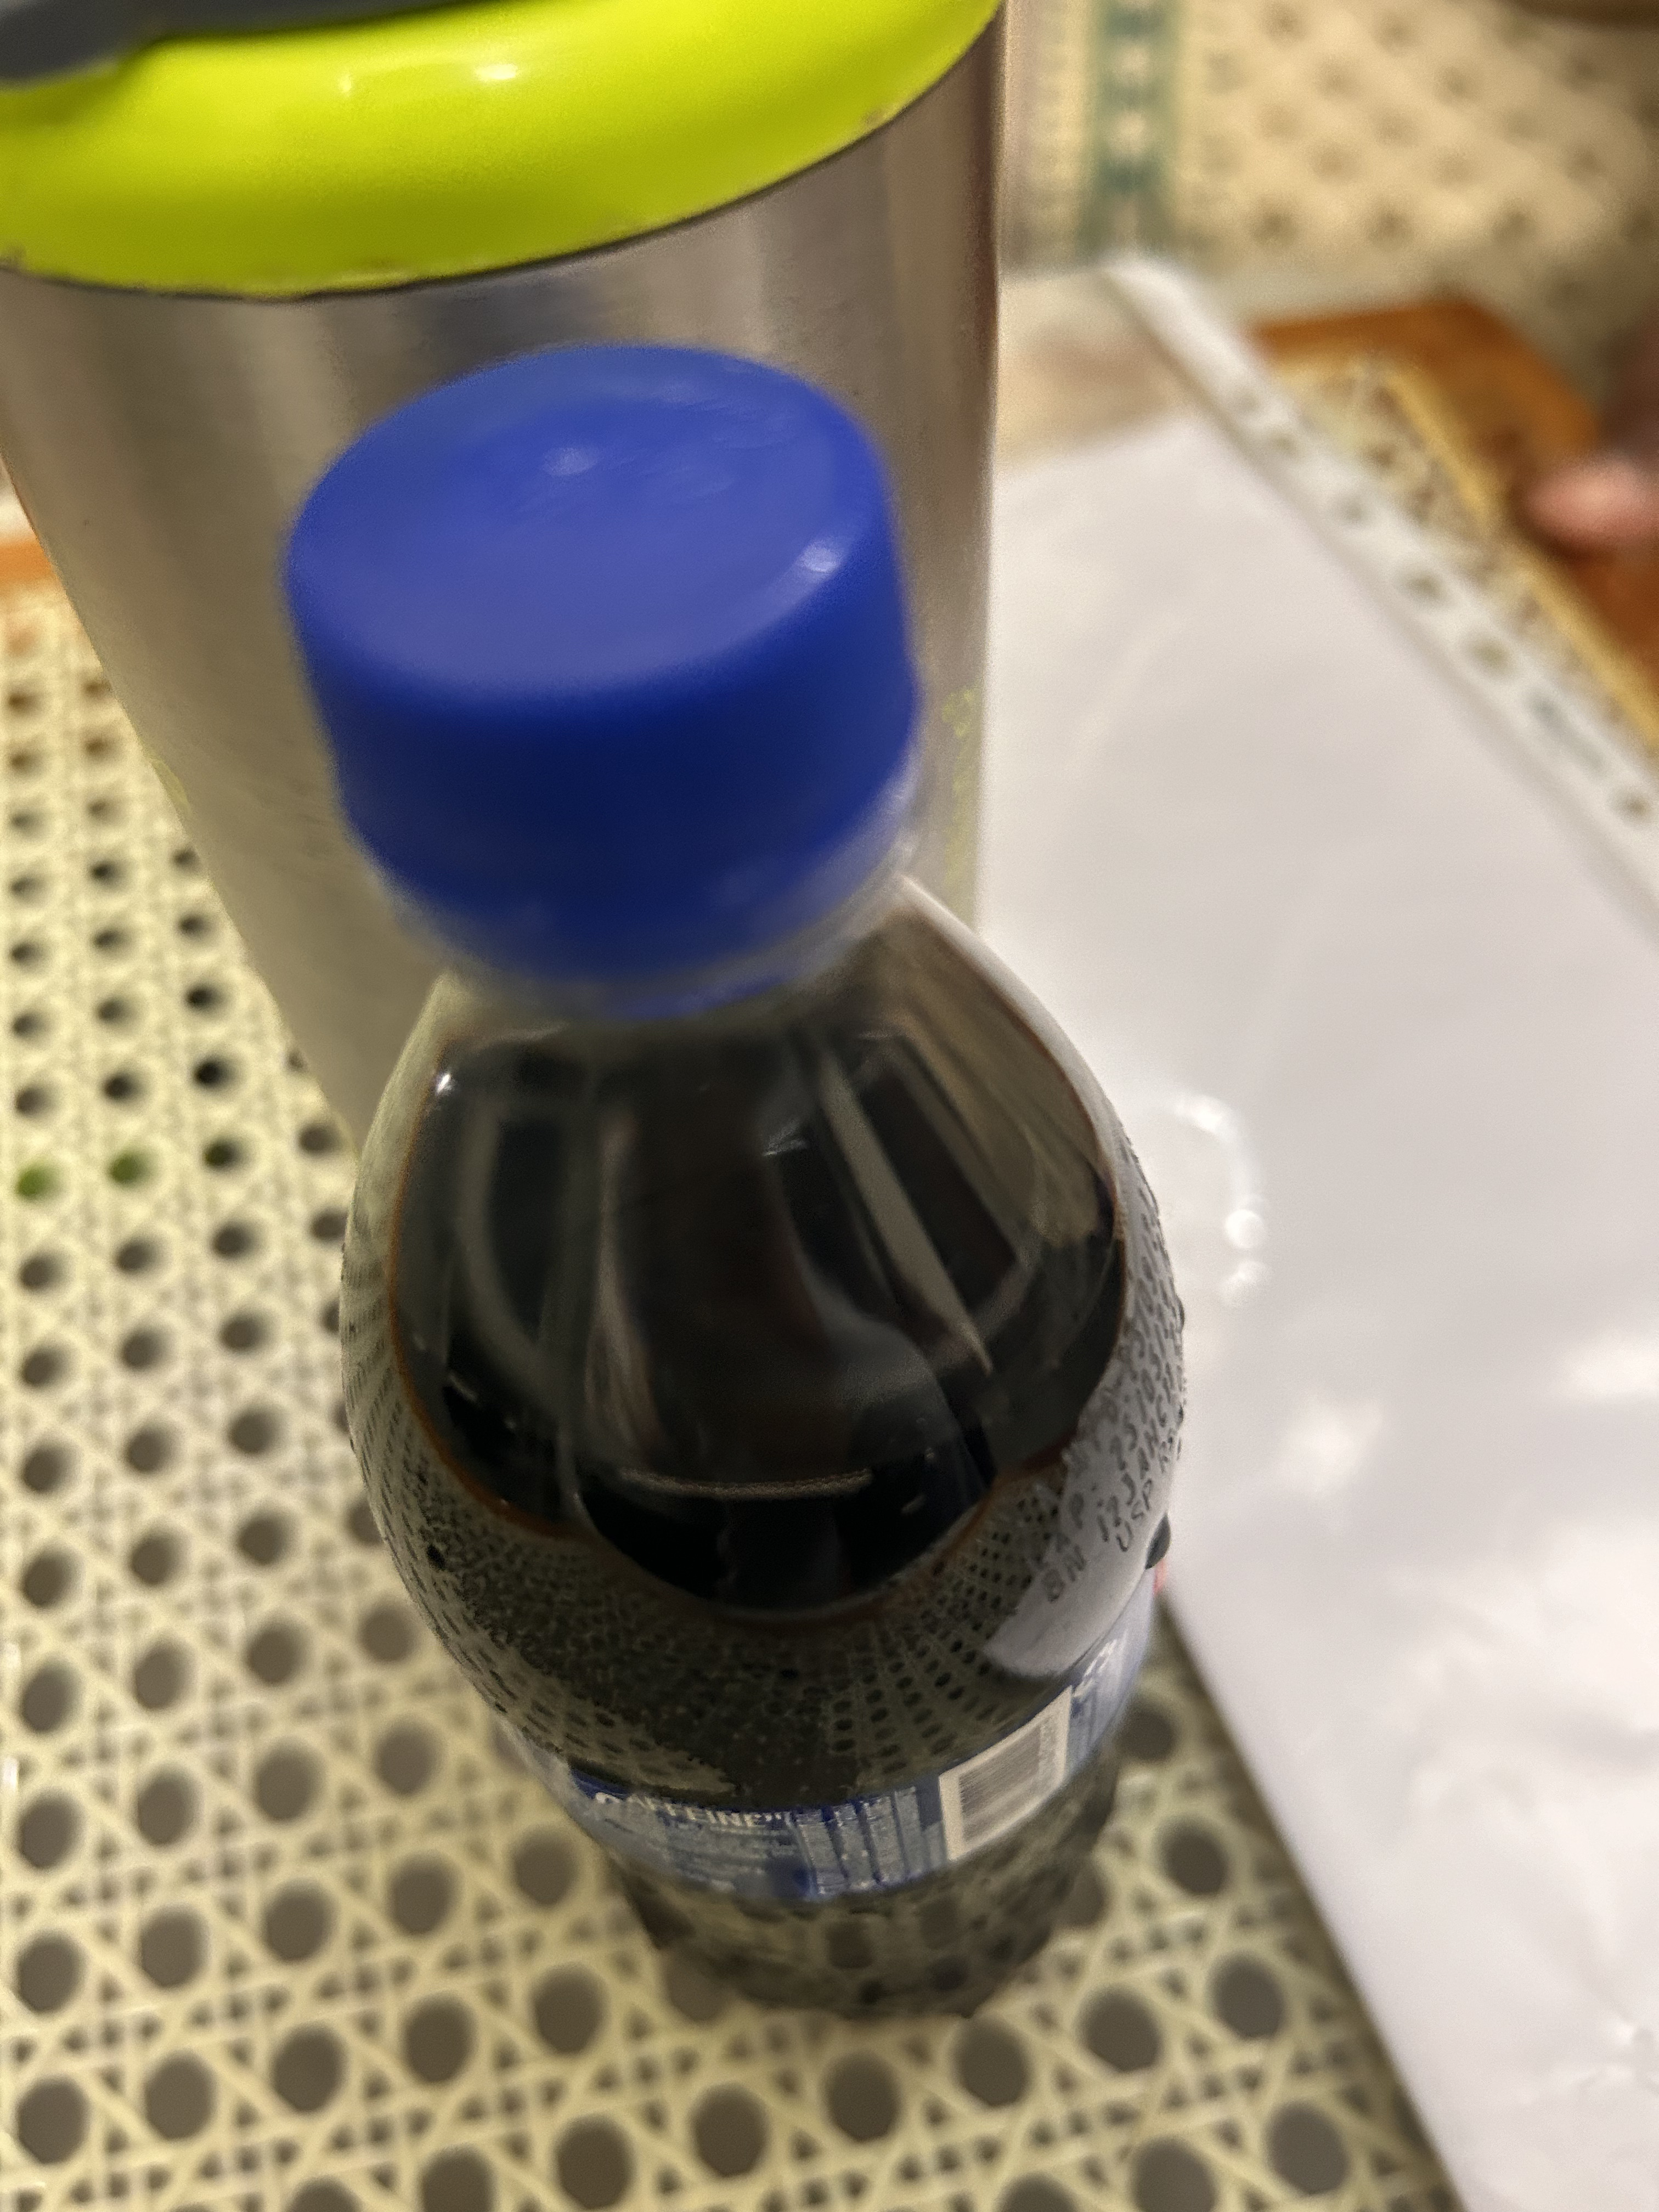sealstable: (274, 287, 988, 1409)
